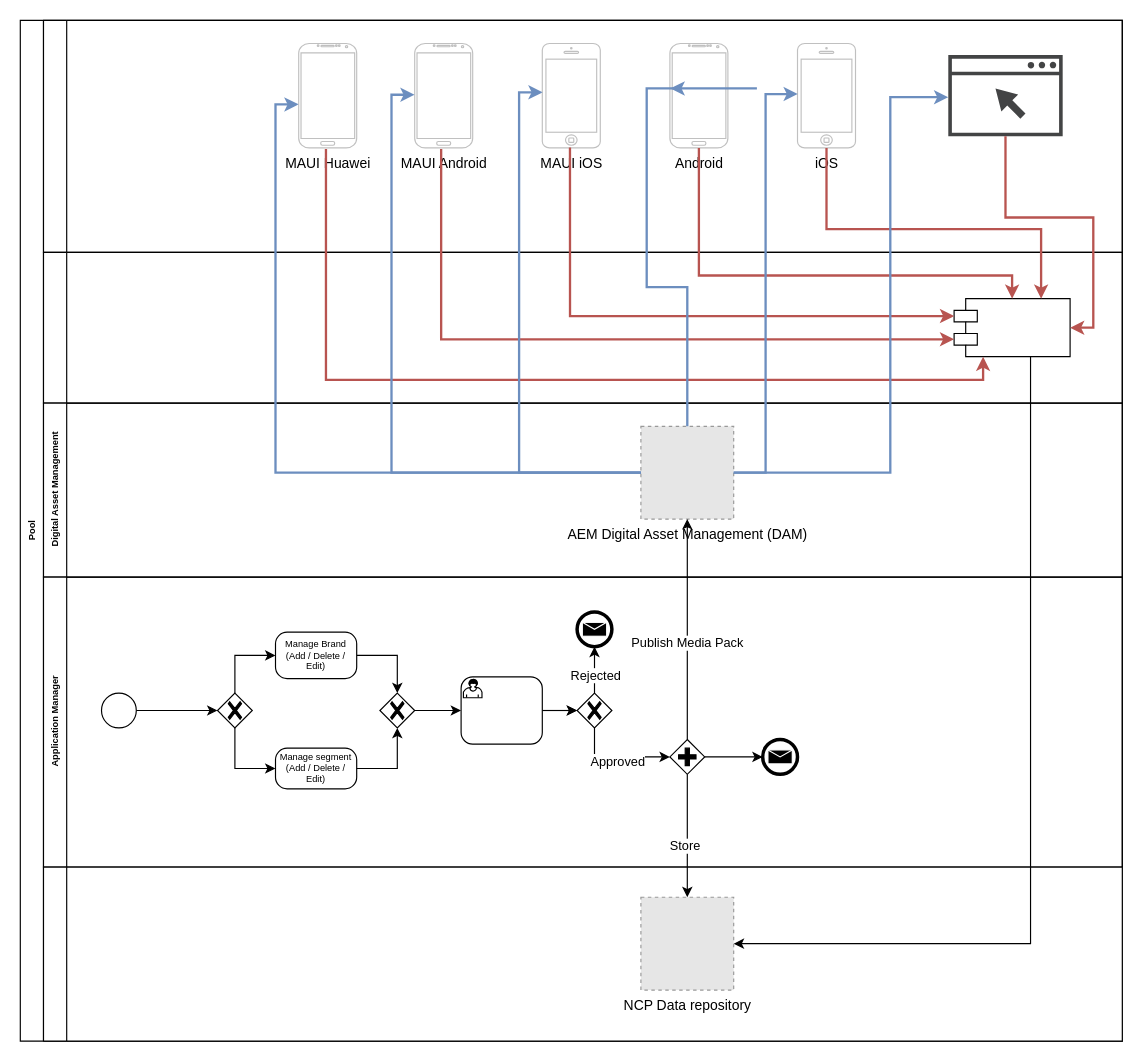
This 1143x1061 diagram has some shape labels left out. Grey dashed boxes stand in for pictures. Each missing label, with the box of its shape:
Angular: (948, 55, 1062, 136)
Approve / Reject change request: (460, 676, 542, 744)
DISCIVERY: (953, 298, 1070, 357)
Discovery: (42, 251, 1122, 403)
FE Application: (42, 19, 1122, 252)
NCP data base: (42, 866, 1122, 1041)
